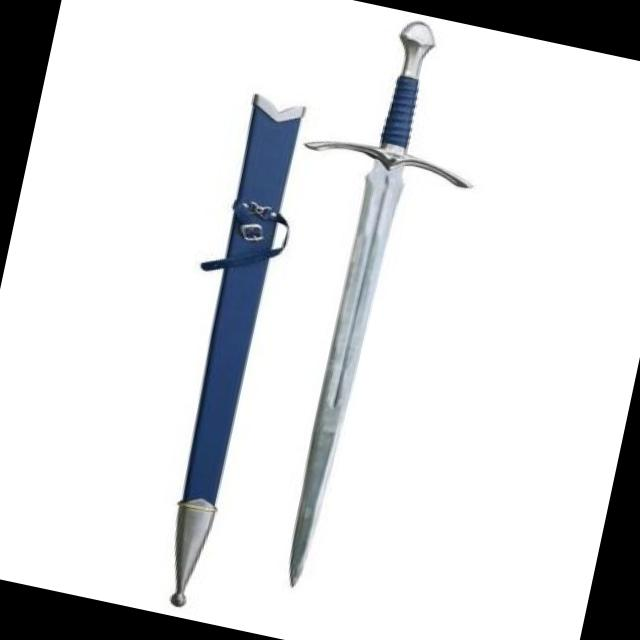Weapon: (210, 0, 516, 610)
